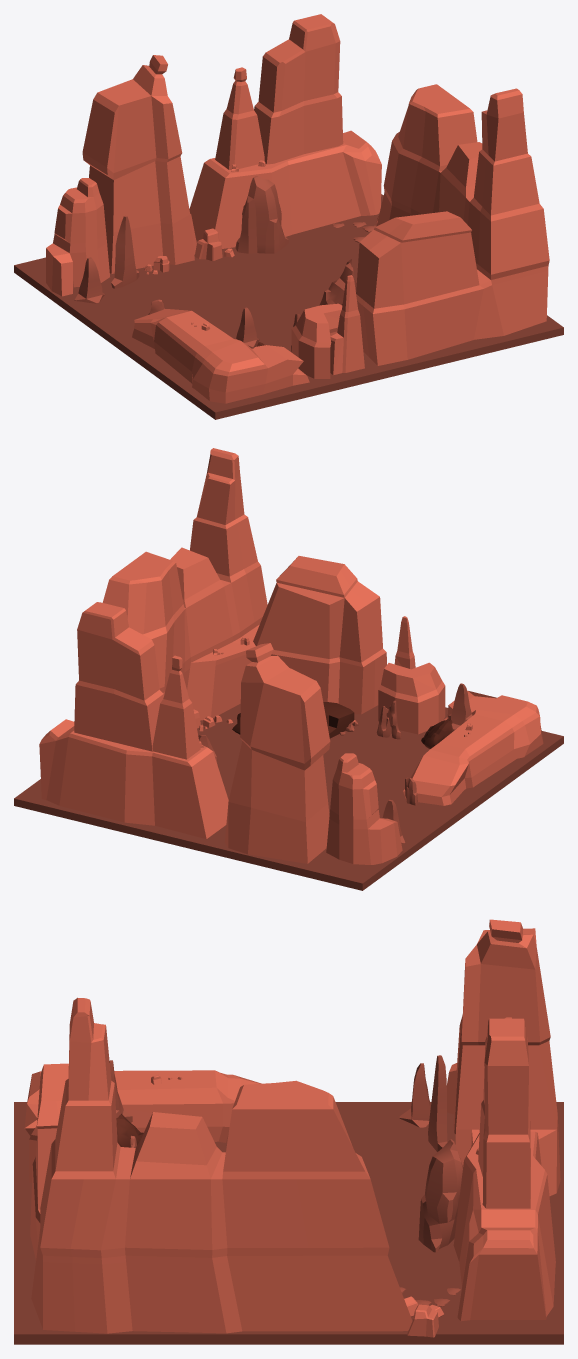
The model's file is EscenarioMenuV1.fbx.
3 renders of one model, top to bottom at view 1: azimuth 30°, elevation 25°; view 2: azimuth 150°, elevation 25°; view 3: azimuth 270°, elevation 25°, orthographic. The views are drawn at different scales.
Parts seen in each view (by area): view 1: Cube.008, Cube, Cube.018, Cube.001, rock.042, rock.025, rock.043, rock.005, rock.004; view 2: Cube.008, Cube, Cube.018, Cube.001, rock.046, rock.004, rock.047; view 3: Cube.008, Cube.001, Cube, Cube.018, rock.042, rock.025, rock.043, rock.047.
Boxes of the visible parts, <box> form: Cube.008: <box>46,14,549,365</box>; Cube: <box>14,194,563,419</box>; Cube.018: <box>132,160,378,403</box>; Cube.001: <box>376,84,477,226</box>; rock.042: <box>235,176,288,253</box>; rock.025: <box>111,215,139,288</box>; rock.043: <box>74,257,104,303</box>; rock.005: <box>319,259,356,305</box>; rock.004: <box>236,307,259,348</box>; Cube.008: <box>39,448,402,864</box>; Cube: <box>14,704,563,890</box>; Cube.018: <box>193,616,543,805</box>; Cube.001: <box>102,551,190,695</box>; rock.046: <box>232,702,354,738</box>; rock.004: <box>448,683,472,731</box>; rock.047: <box>421,718,452,748</box>; Cube.008: <box>30,919,560,1333</box>; Cube.001: <box>213,1080,412,1333</box>; Cube: <box>14,1102,563,1344</box>; Cube.018: <box>24,1070,478,1337</box>; rock.042: <box>418,1139,462,1252</box>; rock.025: <box>428,1055,447,1151</box>; rock.043: <box>399,1063,430,1127</box>; rock.047: <box>116,1113,143,1147</box>.
Bounding box in the file's own units: 1311 × 886 × 1287.
